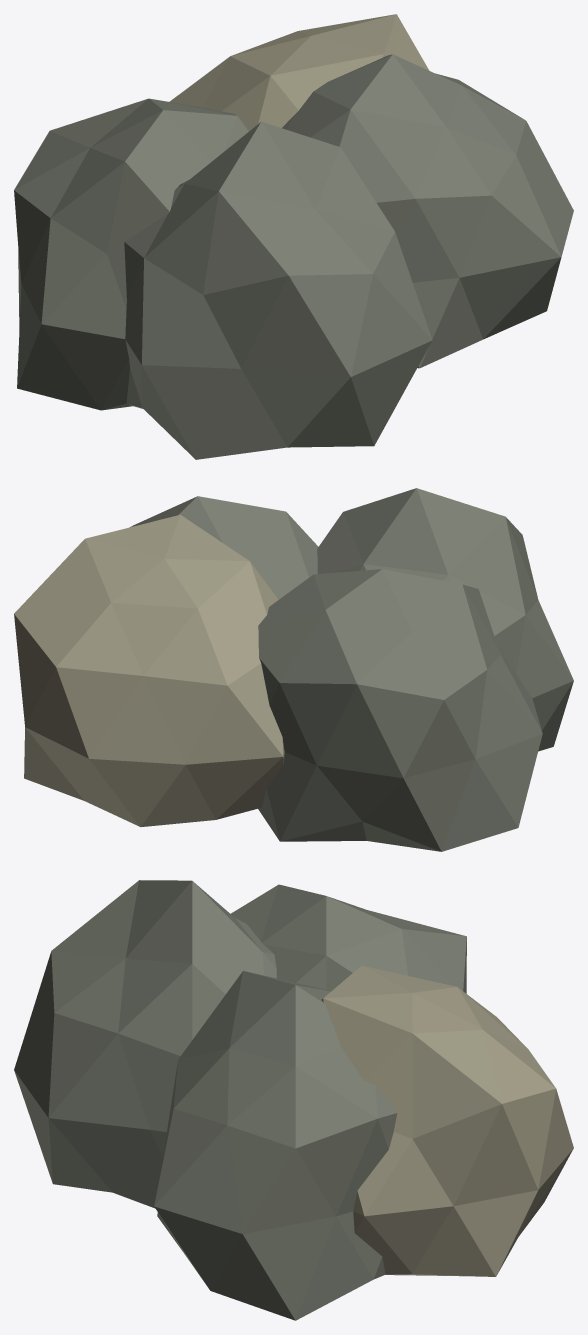
The model's file is prop-rocks.glb.
3 views of the same model, one above another, from view 1: azimuth 30°, elevation 25°; view 2: azimuth 150°, elevation 25°; view 3: azimuth 270°, elevation 25° (orthographic). The views are drawn at different scales.
Visible parts, largest first — view 1: Limestone, Stone ledges; view 2: Limestone, Stone ledges; view 3: Limestone, Stone ledges.
Part boxes in pixels (<box>): Limestone: <box>14,54,573,459</box>; Stone ledges: <box>169,14,429,131</box>; Limestone: <box>130,488,573,851</box>; Stone ledges: <box>14,514,284,826</box>; Limestone: <box>14,880,466,1320</box>; Stone ledges: <box>322,965,573,1276</box>.
Bounding box in the file's own units: 2.06 × 1.08 × 1.94.
